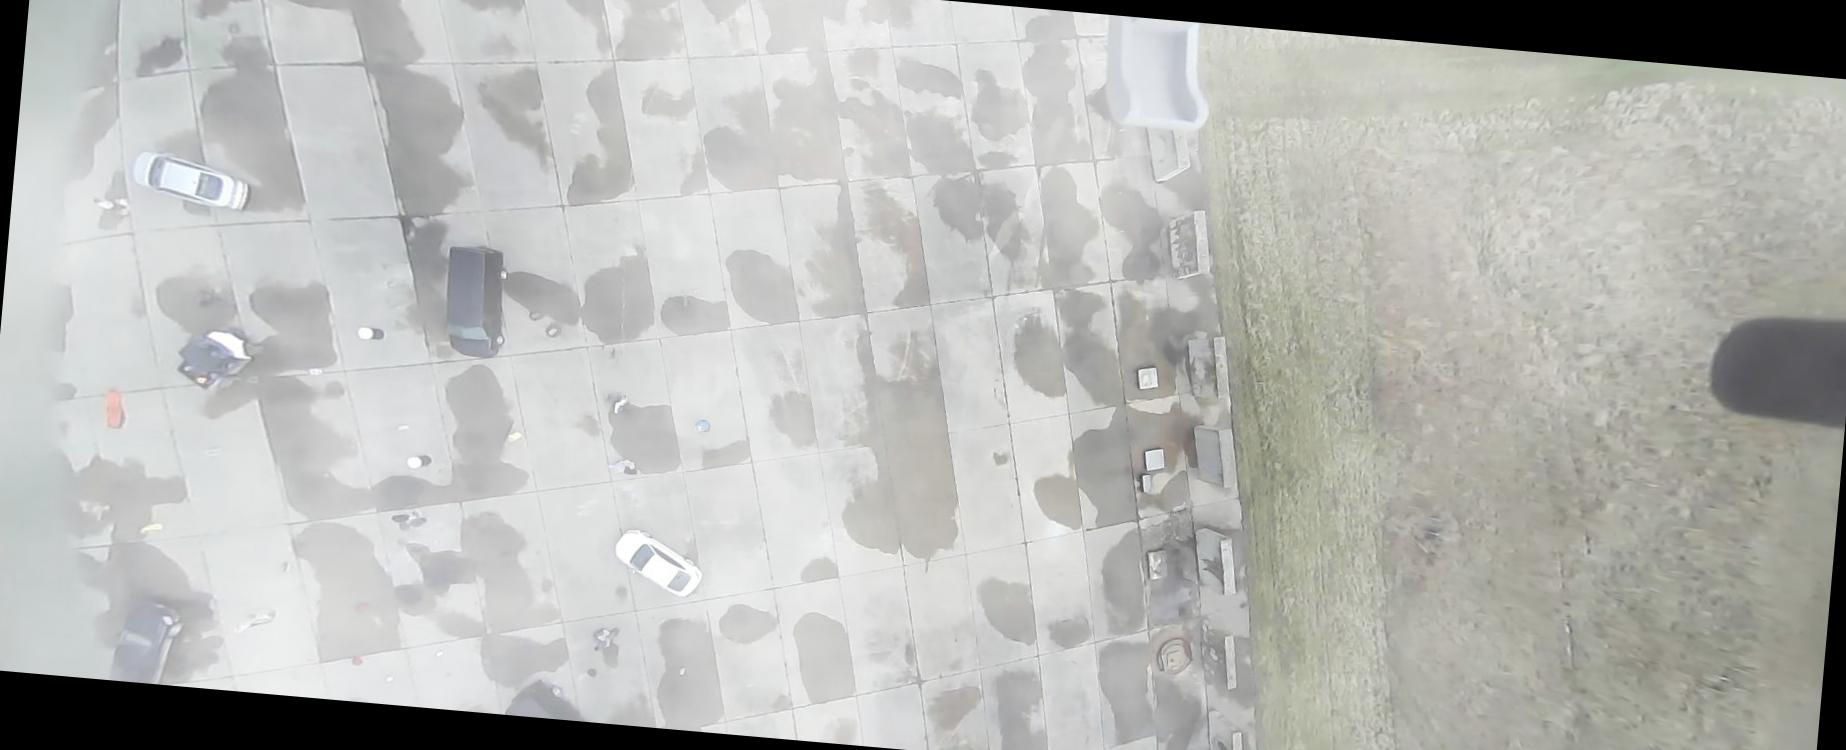vehicle: (440, 243, 514, 359), (130, 147, 251, 212), (610, 526, 708, 599), (173, 323, 268, 396), (108, 597, 185, 685), (504, 676, 591, 721)
